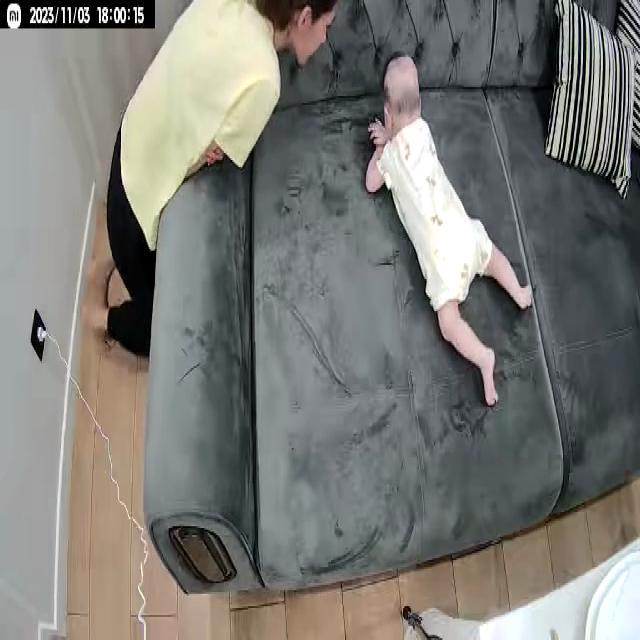baby: (366, 53, 534, 407)
